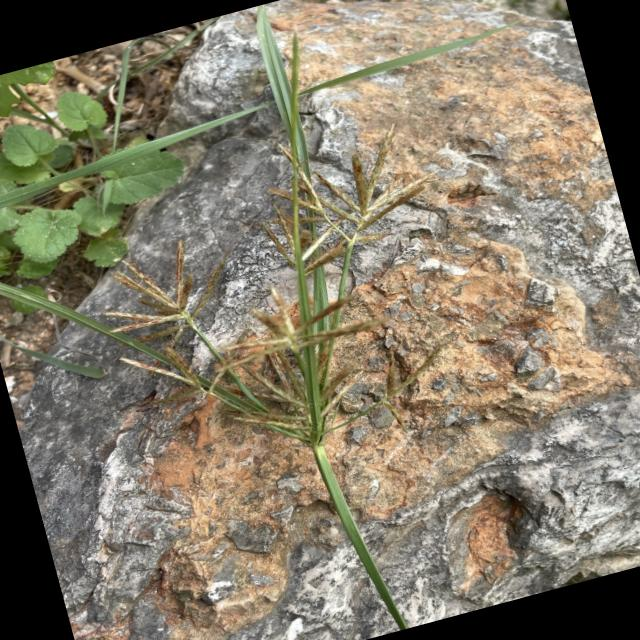cyperus: (61, 92, 498, 497)
